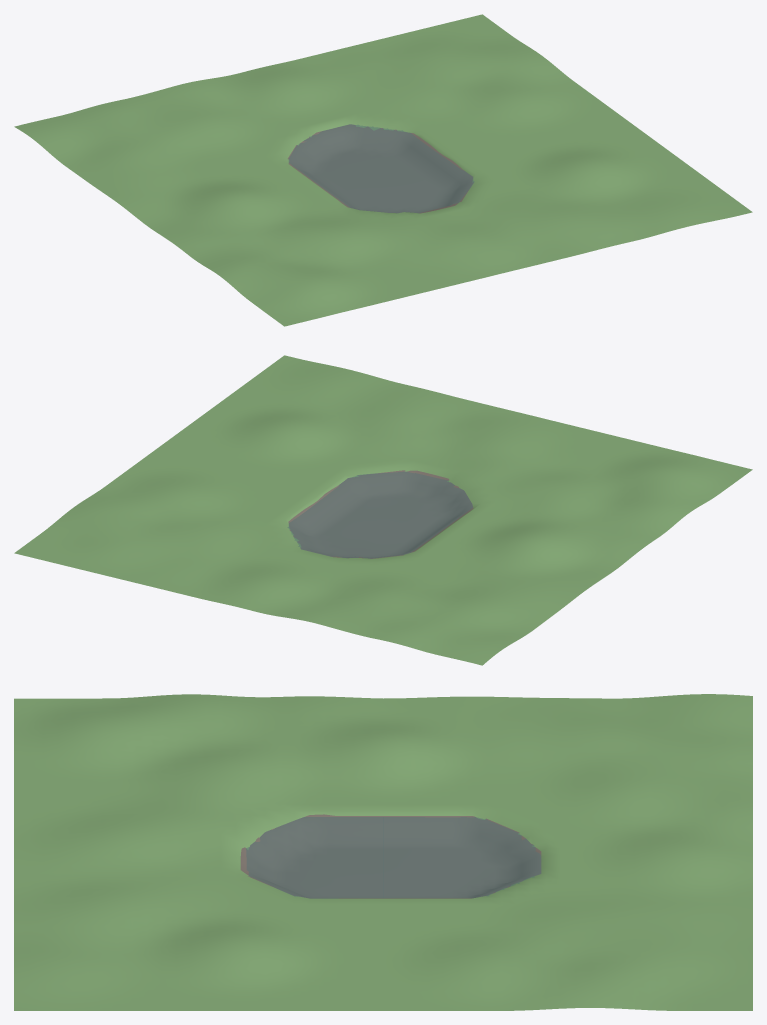
Rendered from Land of anura.fbx.
The picture shows the model from 3 angles, top to bottom: view 1: azimuth 30°, elevation 25°; view 2: azimuth 150°, elevation 25°; view 3: azimuth 270°, elevation 25°; orthographic projection. The views are drawn at different scales.
Visible parts, largest first — view 1: pPlane2, pPlane1, pPlane3; view 2: pPlane2, pPlane1, pPlane3; view 3: pPlane2, pPlane1, pPlane3.
Part boxes in pixels (box(x1,y1,x2,y2)): pPlane2: box(14, 14, 752, 326); pPlane1: box(287, 124, 473, 213); pPlane3: box(288, 124, 474, 213); pPlane2: box(14, 355, 752, 665); pPlane1: box(288, 470, 473, 558); pPlane3: box(287, 471, 472, 558); pPlane2: box(14, 694, 752, 1010); pPlane1: box(240, 814, 541, 898); pPlane3: box(246, 817, 541, 898).
Size of the model in its own units: 131 by 5.78 by 131.
